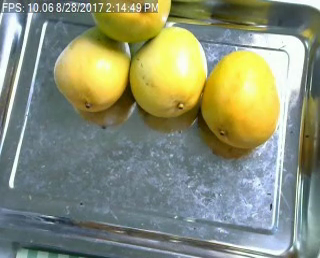Mango: (203, 50, 281, 146), (128, 28, 207, 115), (54, 27, 130, 111), (91, 1, 170, 41)
